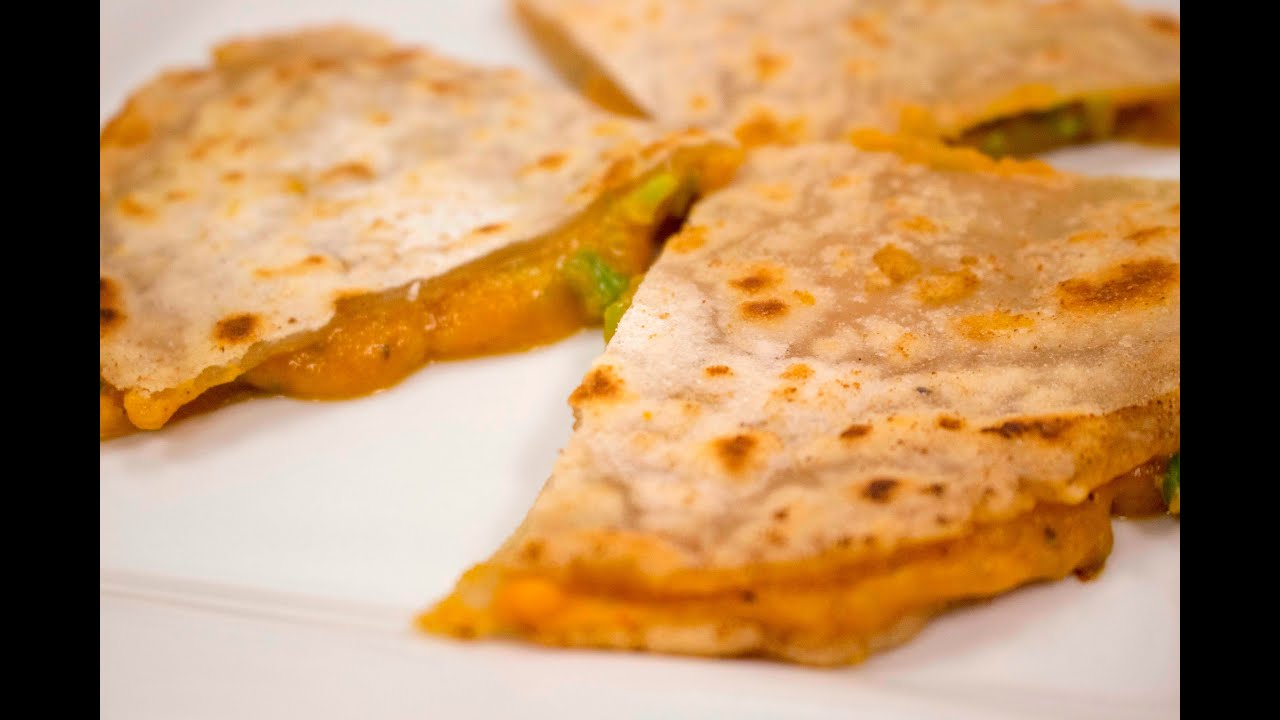cheese: (220, 206, 646, 370)
